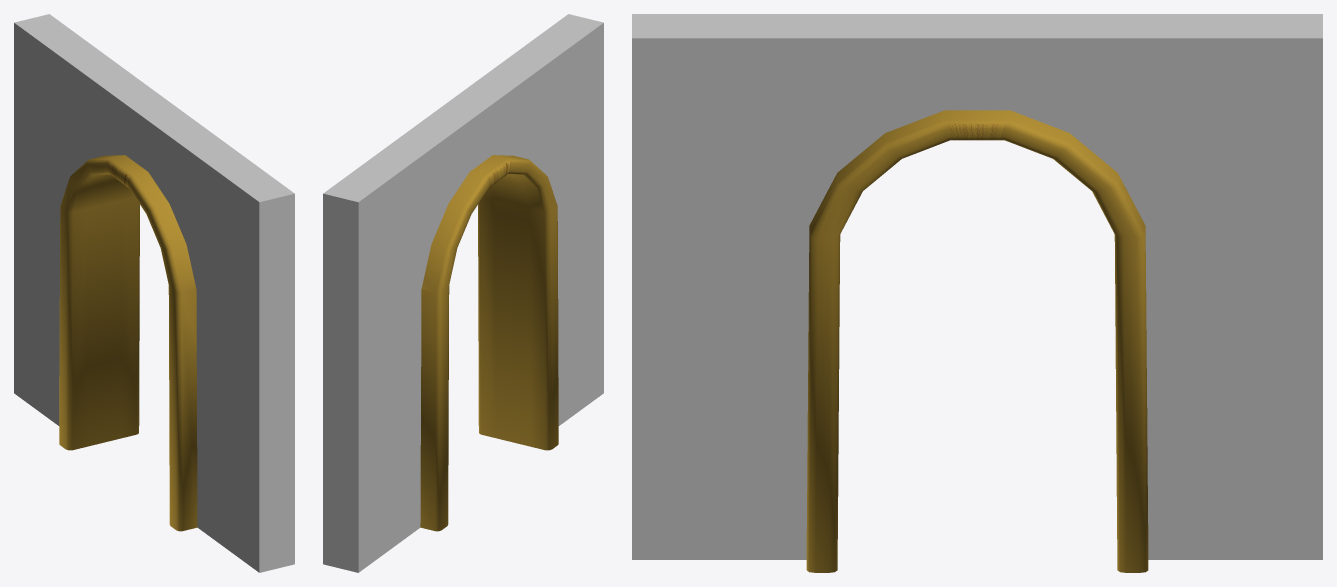
File: DoorWay.fbx
The picture shows the model from 3 angles, left to right: view 1: azimuth 30°, elevation 25°; view 2: azimuth 150°, elevation 25°; view 3: azimuth 270°, elevation 25°; orthographic projection. The views are drawn at different scales.
Parts seen in each view (by area): view 1: DW; view 2: DW; view 3: DW.
Boxes of the visible parts, x1,y1,x2,y2 form: DW: (14, 14, 294, 572); DW: (323, 14, 603, 572); DW: (632, 14, 1322, 572).
Size of the model in its own units: 206 by 1000 by 1200.
